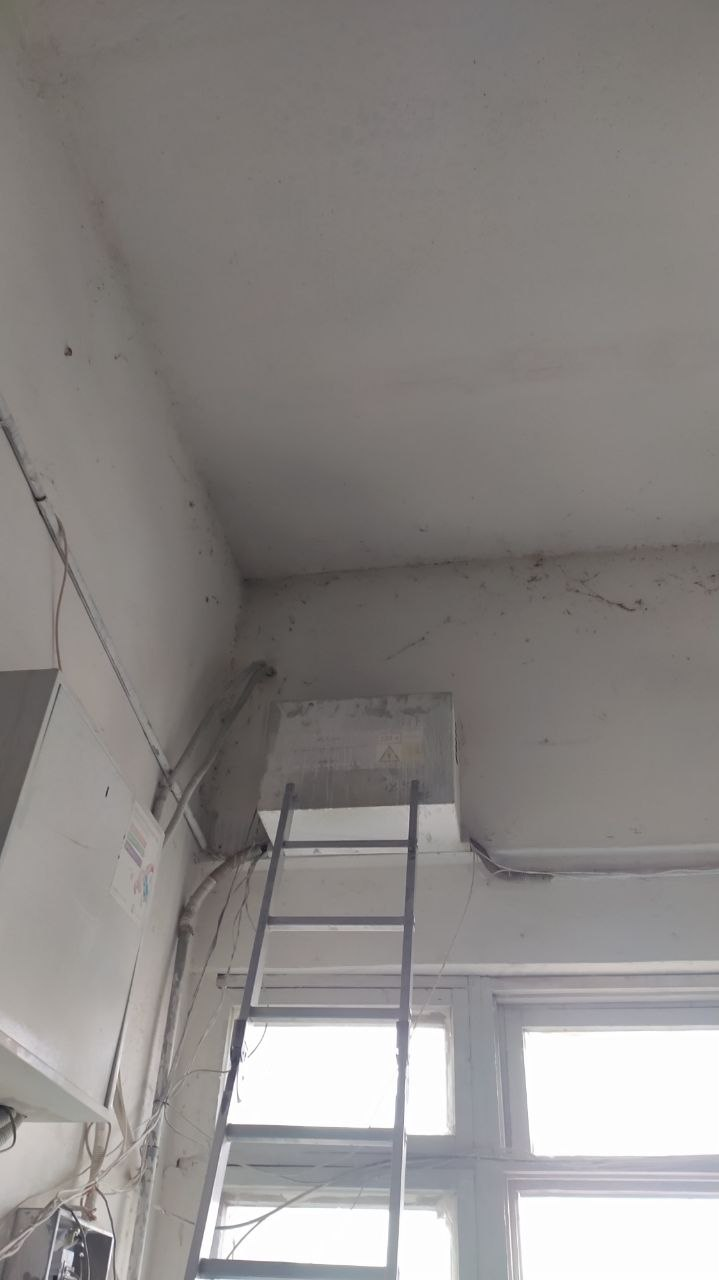sv-5: (248, 692, 468, 855)
